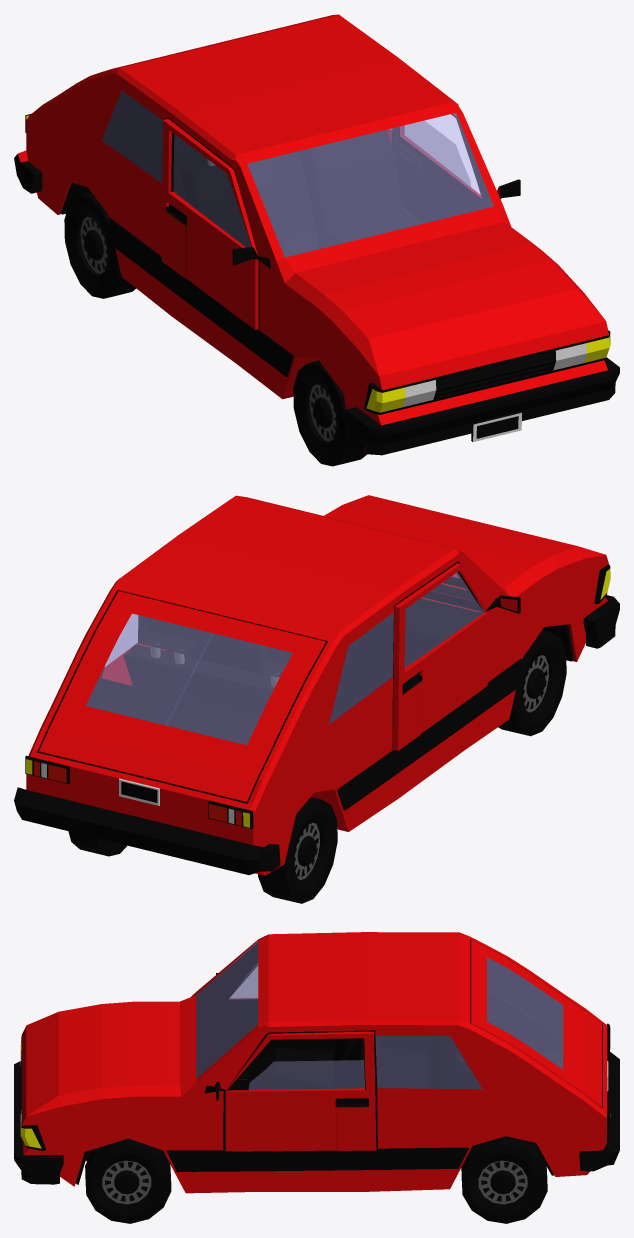
File: 147 terminado.glb
The picture shows the model from 3 angles, top to bottom: view 1: azimuth 30°, elevation 25°; view 2: azimuth 150°, elevation 25°; view 3: azimuth 270°, elevation 25°; orthographic projection. The views are drawn at different scales.
Visible parts, largest first — view 1: armazon, accesorios, asiento adelante, interior, RUEDAS.002, RUEDAS.003, asiento trasero; view 2: armazon, baul, accesorios, asiento trasero, interior, RUEDAS.003, RUEDAS.002, asiento adelante, RUEDAS.004; view 3: armazon, baul, interior, accesorios, RUEDAS.004, RUEDAS.001, asiento adelante, asiento trasero.
Part boxes in pixels (x1=…): armazon: x1=26, y1=14, x2=608, y2=425; accesorios: x1=14, y1=113, x2=619, y2=455; asiento adelante: x1=180, y1=130, x2=419, y2=256; interior: x1=61, y1=91, x2=493, y2=257; RUEDAS.002: x1=293, y1=360, x2=366, y2=466; RUEDAS.003: x1=64, y1=192, x2=135, y2=298; asiento trasero: x1=176, y1=136, x2=315, y2=236; armazon: x1=26, y1=495, x2=608, y2=875; baul: x1=30, y1=580, x2=338, y2=809; accesorios: x1=14, y1=564, x2=619, y2=874; asiento trasero: x1=123, y1=615, x2=292, y2=716; interior: x1=86, y1=571, x2=573, y2=871; RUEDAS.003: x1=258, y1=797, x2=337, y2=903; RUEDAS.002: x1=498, y1=630, x2=566, y2=736; asiento adelante: x1=192, y1=629, x2=270, y2=676; RUEDAS.004: x1=68, y1=831, x2=126, y2=856; armazon: x1=21, y1=932, x2=606, y2=1193; baul: x1=461, y1=933, x2=607, y2=1112; interior: x1=75, y1=943, x2=563, y2=1184; accesorios: x1=14, y1=1023, x2=619, y2=1184; RUEDAS.004: x1=461, y1=1136, x2=547, y2=1223; RUEDAS.001: x1=85, y1=1138, x2=171, y2=1223; asiento adelante: x1=274, y1=1035, x2=379, y2=1089; asiento trasero: x1=377, y1=1036, x2=471, y2=1088.
Bounding box in the file's own units: 2.23 × 1.84 × 4.96.
